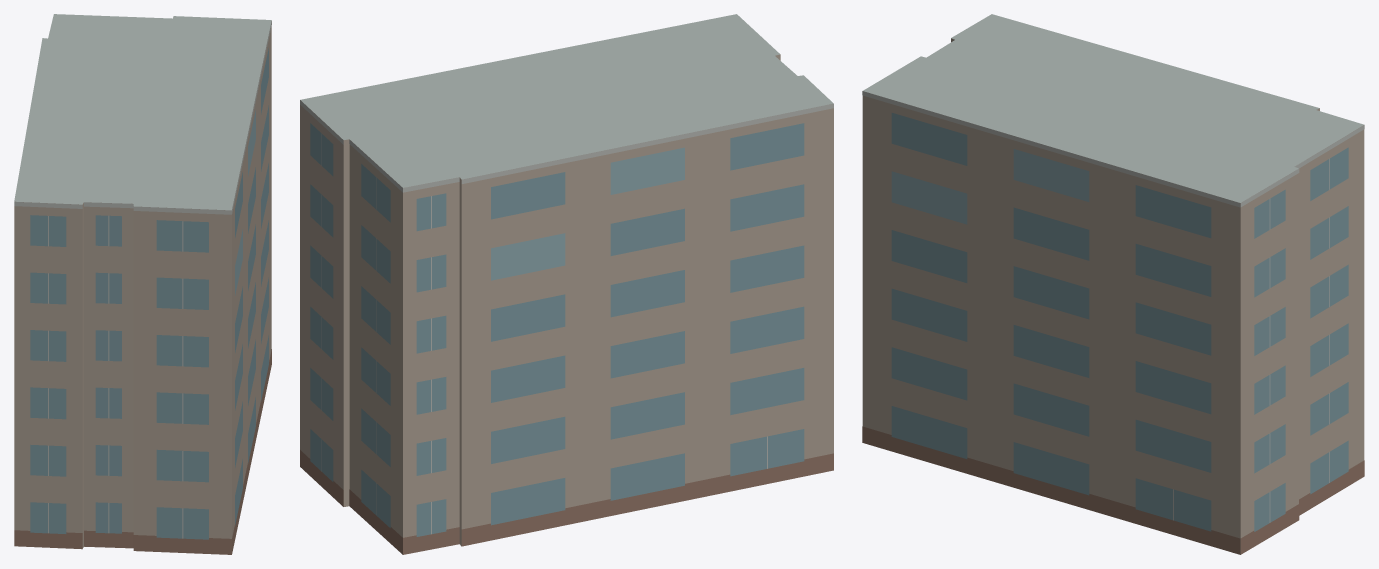
The model's file is survey-upis-32947721.glb.
The picture shows the model from 3 angles, left to right: view 1: azimuth 30°, elevation 25°; view 2: azimuth 150°, elevation 25°; view 3: azimuth 270°, elevation 25°; orthographic projection. The views are drawn at different scales.
Parts seen in each view (by area): view 1: survey-upis-32947721.tmp; view 2: survey-upis-32947721.tmp; view 3: survey-upis-32947721.tmp.
Part boxes in pixels (x1=…): survey-upis-32947721.tmp: x1=14, y1=14, x2=271, y2=554; survey-upis-32947721.tmp: x1=300, y1=14, x2=833, y2=554; survey-upis-32947721.tmp: x1=862, y1=14, x2=1364, y2=554.
Bounding box in the file's own units: 21.9 × 19 × 24.57.
